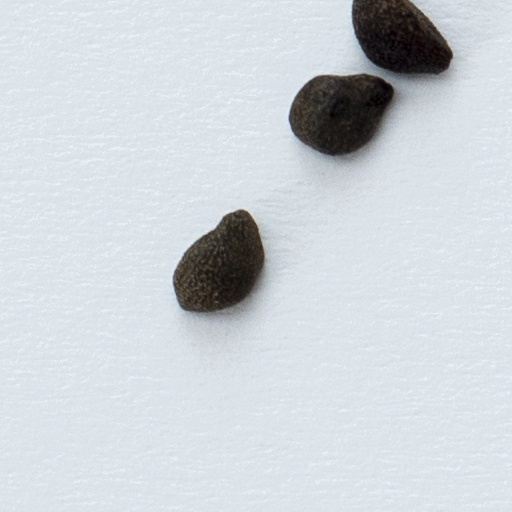Convolvulus-poly: (286, 71, 400, 166), (170, 206, 263, 315), (349, 0, 455, 83)
